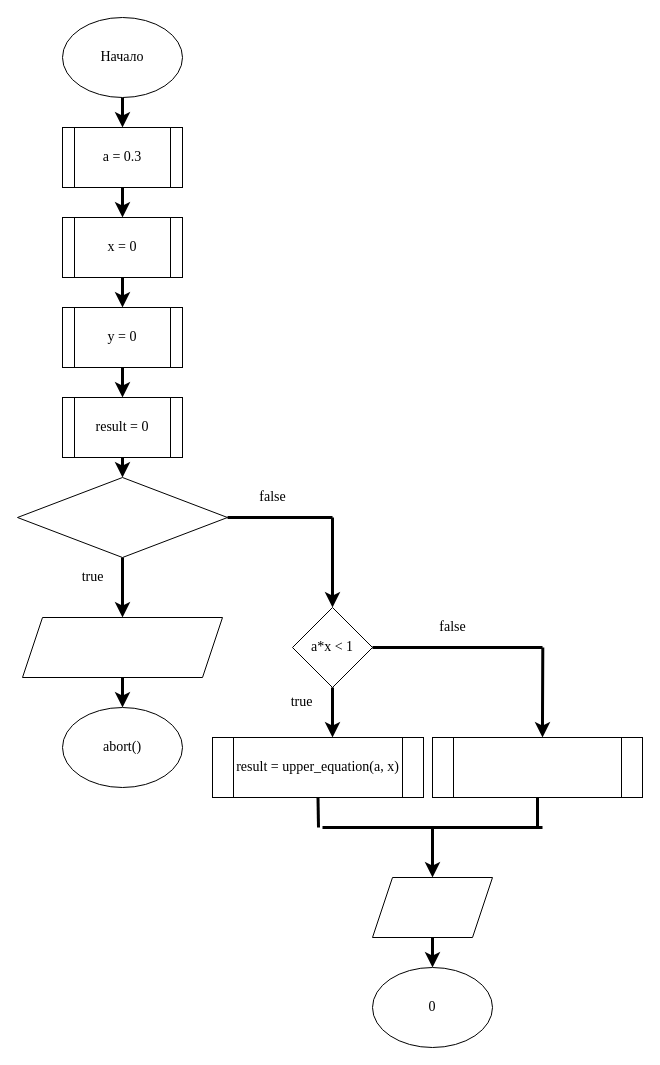
Some shapes in this 660 by 1065 pixel diagram are drawn without their labels. Each missing label, with the box of its shape:
"Please, insert a valid value": (22, 616, 222, 678)
result: (372, 876, 492, 938)
result = lower_equation(a, x): (432, 736, 642, 798)
scanf("%d", &x) != 1: (16, 476, 228, 558)
